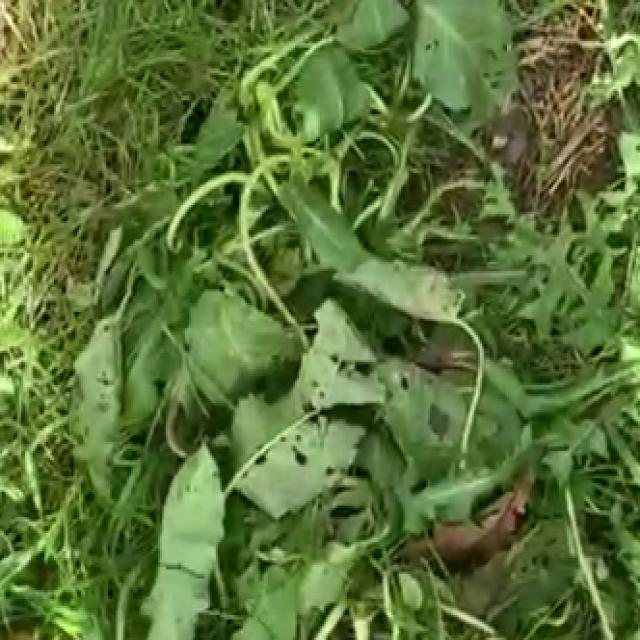organic waste: (102, 0, 561, 633)
